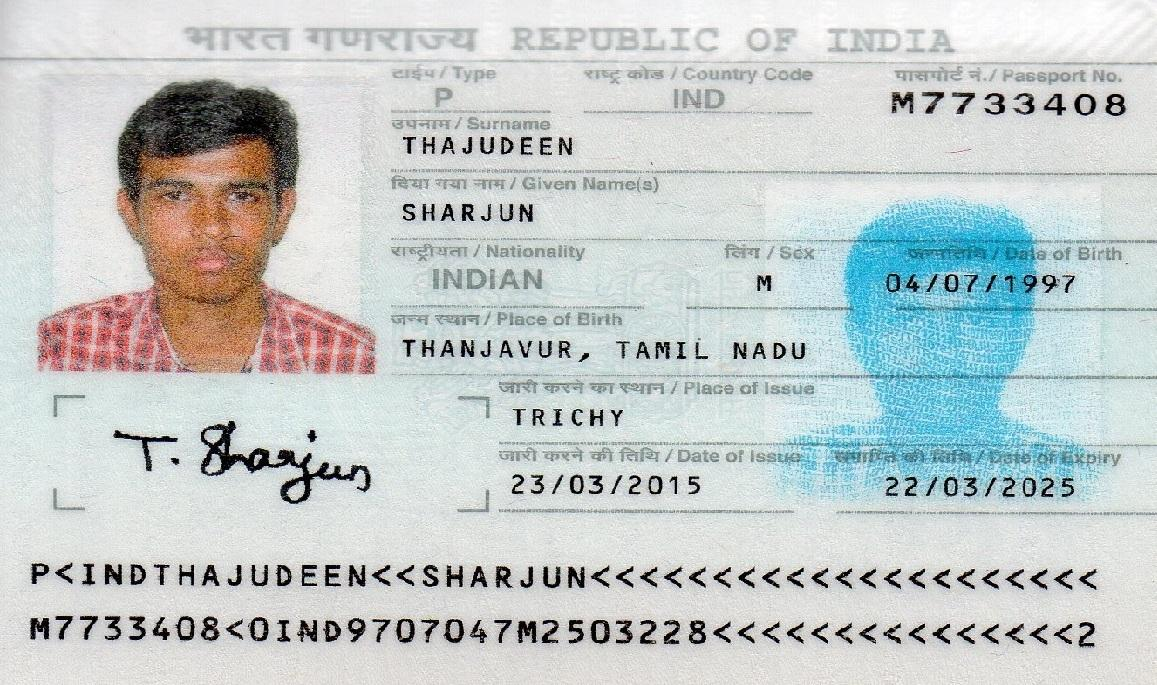DOB: (880, 260, 1137, 307)
Surname: (388, 125, 804, 165)
country_code: (654, 83, 776, 122)
date_of_expiry: (868, 464, 1125, 508)
date_of_issue: (509, 462, 741, 510)
details: (24, 541, 1128, 669)
name: (385, 191, 683, 235)
nationality: (401, 261, 658, 306)
passport_no: (873, 81, 1144, 129)
photo: (57, 77, 368, 372)
place_of_birth: (405, 328, 930, 373)
place_of_issue: (503, 399, 706, 443)
sex: (739, 265, 832, 308)
sign: (70, 414, 468, 525)
type: (411, 81, 517, 117)
